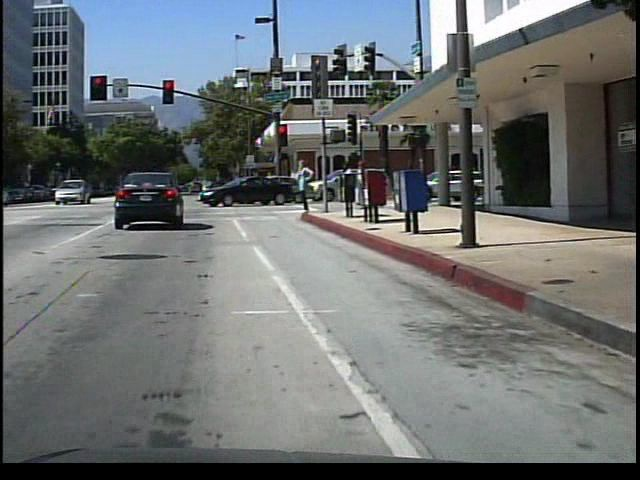person: (296, 152, 322, 217), (344, 155, 363, 208), (358, 154, 376, 209)
